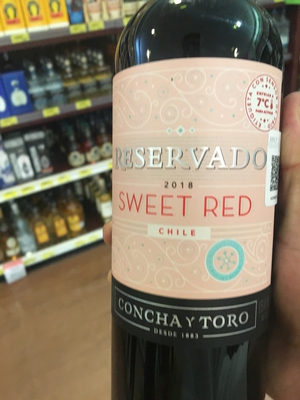reservado sweet red: (94, 1, 281, 400)
